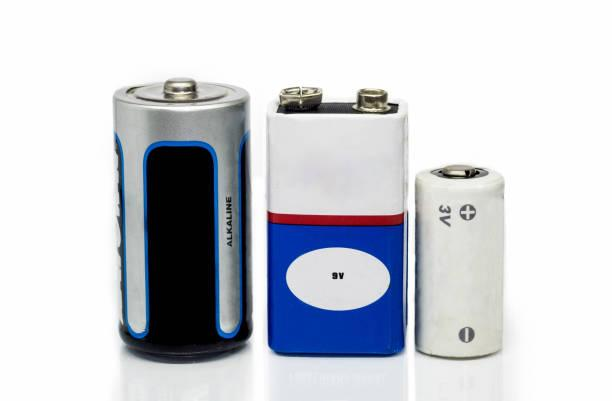9V Battery: (266, 86, 410, 361)
